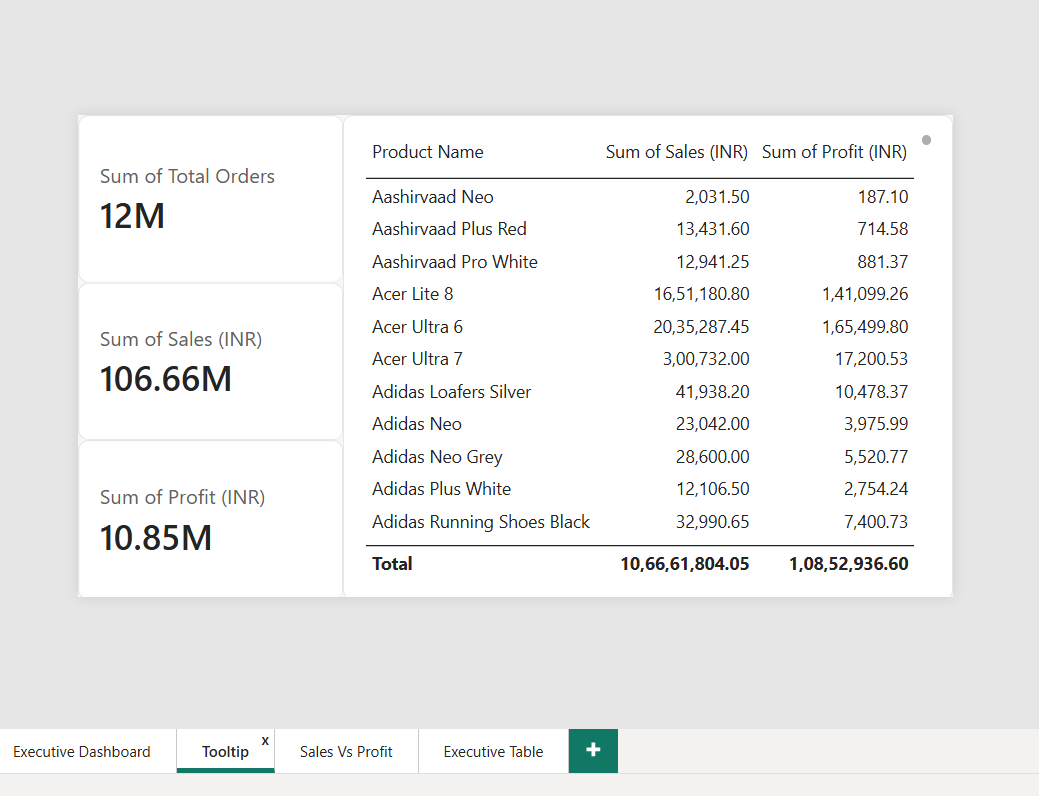

This screenshot's page, from the dashboard's own definition file:
{"tool":"powerbi","page":{"name":"Tooltip","canvas":[700,385],"ordinal":1},"visuals":[{"type":"cardVisual","fields":{"Data":["Sum(Fact Orders.Total Orders)"]},"box":[0,0,212,134],"z":0},{"type":"cardVisual","fields":{"Data":["Sum(Fact Orders.Sales (INR))"]},"box":[0,134,212,126],"z":1000},{"type":"cardVisual","fields":{"Data":["Sum(Fact Orders.Profit (INR))"]},"box":[0,260,212,128],"z":2000},{"type":"tableEx","fields":{"Values":["Dim Product.Product Name","Sum(Fact Orders.Sales (INR))","Sum(Fact Orders.Profit (INR))"]},"box":[212,0,488,388],"z":3000}]}

Visuals, with their boxes on the page's 700x385 design canvas (x1, y1, x2, y2). These are canvas units, not pixel positions in the 1039x796 screenshot, which may show the page scaled, cropped or inside an application window:
cardVisual - Sum(Fact Orders.Total Orders): 0/0/212/134
cardVisual - Sum(Fact Orders.Sales (INR)): 0/134/212/260
cardVisual - Sum(Fact Orders.Profit (INR)): 0/260/212/388
tableEx - Dim Product.Product Name x Sum(Fact Orders.Sales (INR)): 212/0/700/388
